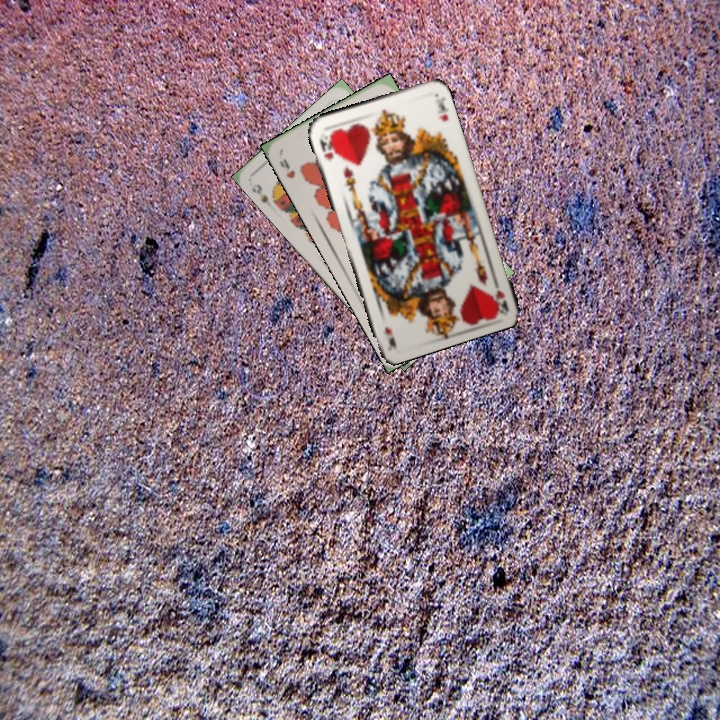H9: (275, 154, 298, 181)
HK: (488, 272, 511, 313), (315, 130, 338, 163)
S9: (248, 180, 281, 209)
